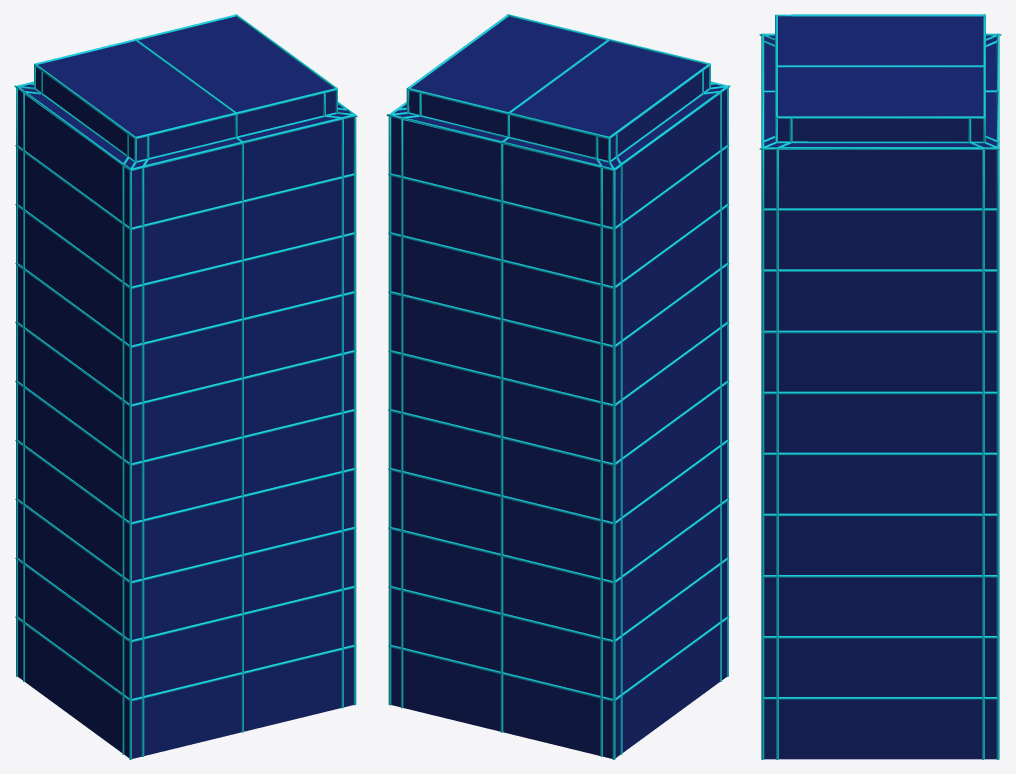
File: Torre04_Mapa01.FBX
3 renders of one model, left to right at view 1: azimuth 30°, elevation 25°; view 2: azimuth 150°, elevation 25°; view 3: azimuth 270°, elevation 25°, orthographic. The views are drawn at different scales.
Parts seen in each view (by area): view 1: Box008, Shape008; view 2: Box008, Shape008; view 3: Box008, Shape008.
Part boxes in pixels (x1,y1,x2,y2): Box008: [18, 16, 353, 758]; Shape008: [14, 14, 357, 759]; Box008: [391, 16, 726, 758]; Shape008: [386, 14, 730, 759]; Box008: [764, 16, 996, 759]; Shape008: [759, 14, 1001, 759].
Bounding box in the file's own units: 191 × 492 × 170.
